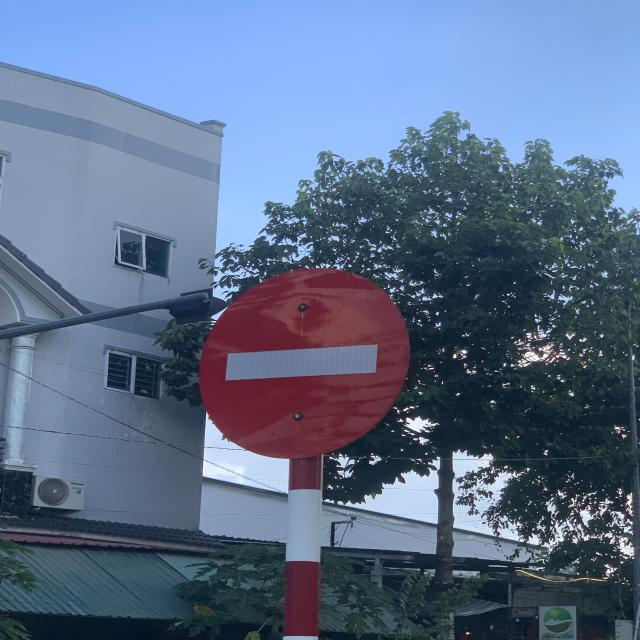Cam_Di_Nguoc_Chieu: (197, 266, 412, 462)
